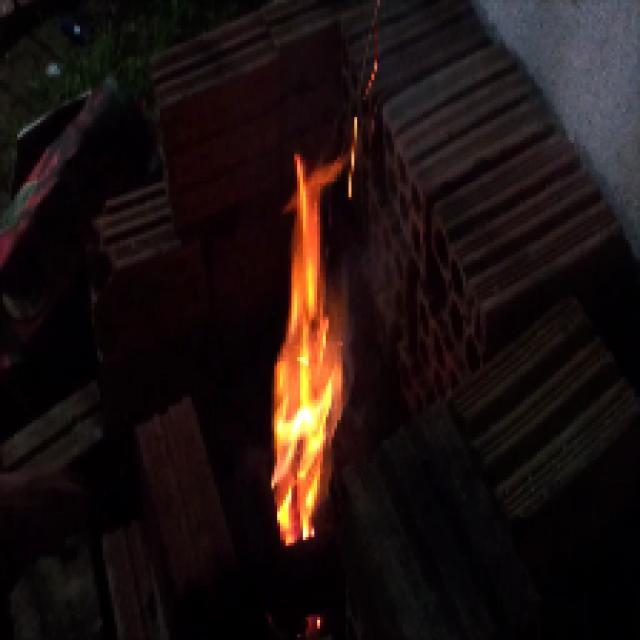Fire: (270, 140, 348, 549)
